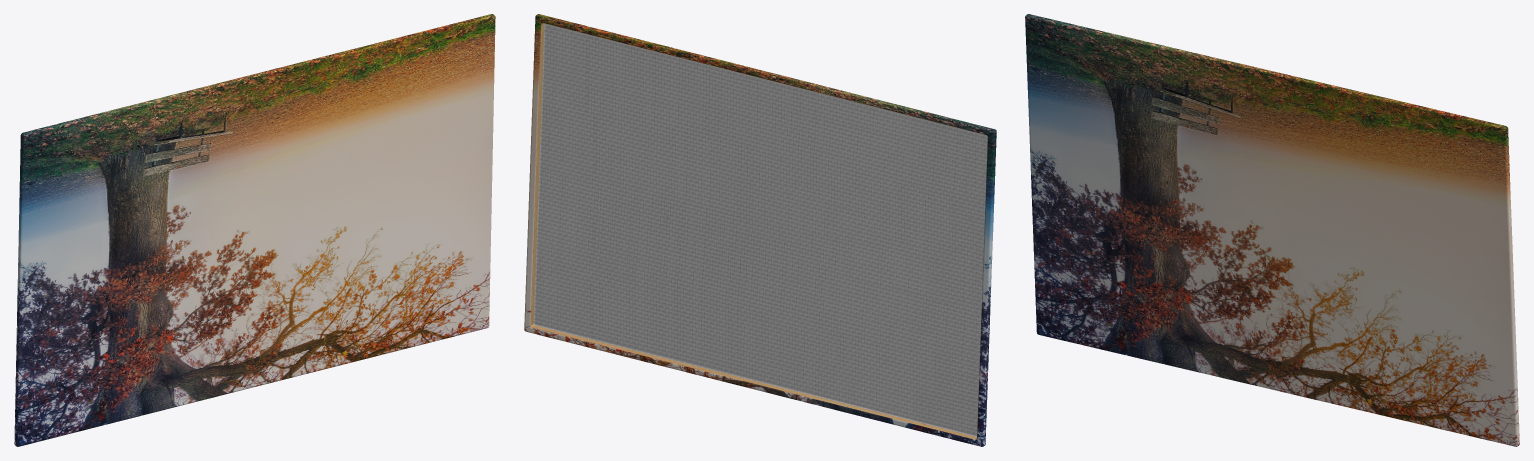
The model's file is canvas_landscape_stoc.glb.
3 renders of one model, left to right at view 1: azimuth 30°, elevation 25°; view 2: azimuth 150°, elevation 25°; view 3: azimuth 330°, elevation 25°, orthographic. The views are drawn at different scales.
Visible parts, largest first — view 1: node_id8; view 2: node_id13, node_id8; view 3: node_id8.
Part boxes in pixels (x1,y1,x2,y2): node_id8: [14, 14, 495, 446]; node_id13: [530, 23, 987, 439]; node_id8: [524, 14, 996, 446]; node_id8: [1025, 14, 1519, 446].
Size of the model in its own units: 0.5122 by 0.3337 by 0.0223.
2 materials, 2 textured.
